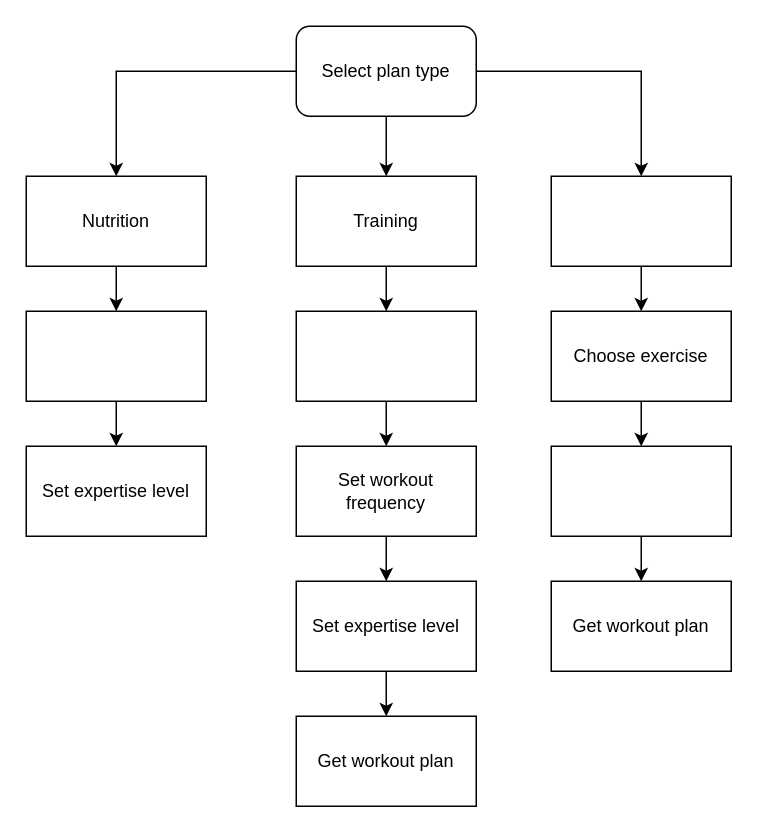
This 758x833 diagram has some shape labels left out. The shapes that lost their labels are listed below. From the top down, each one's centre as x and y in pixels, then its label:
(640,220): Specific exercise strength improvement (advanced)
(115,355): Choose goal (fat loss/ muscle build support/ healthy nutrition)
(385,355): Choose goal (strength/ aesthetic/ athleticism)
(640,490): Choose desired timeframe and goal
